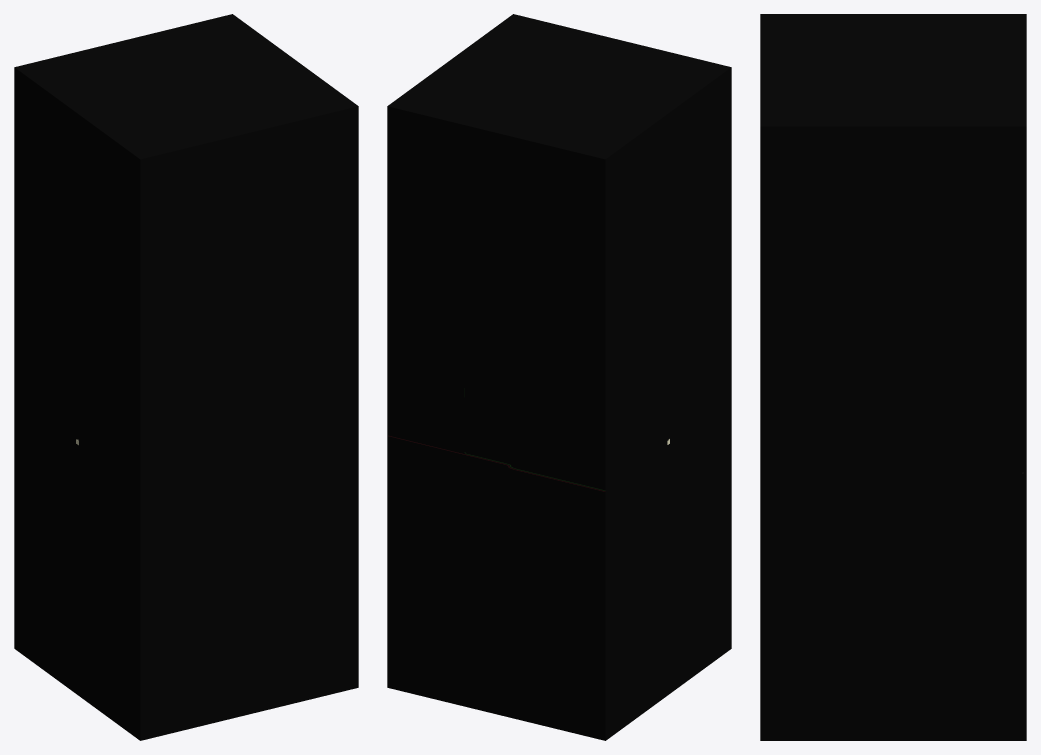
File: studio.fbx
3 renders of one model, left to right at view 1: azimuth 30°, elevation 25°; view 2: azimuth 150°, elevation 25°; view 3: azimuth 270°, elevation 25°, orthographic. The views are drawn at different scales.
Parts seen in each view (by area): view 1: Cube; view 2: Cube; view 3: Cube.
Boxes of the visible parts, <box> form: Cube: <box>14,14,358,740</box>; Cube: <box>387,14,731,740</box>; Cube: <box>760,14,1026,740</box>.
Bounding box in the file's own units: 11018 × 28000 × 11008.
Materials: 5 (2 with a texture image).
